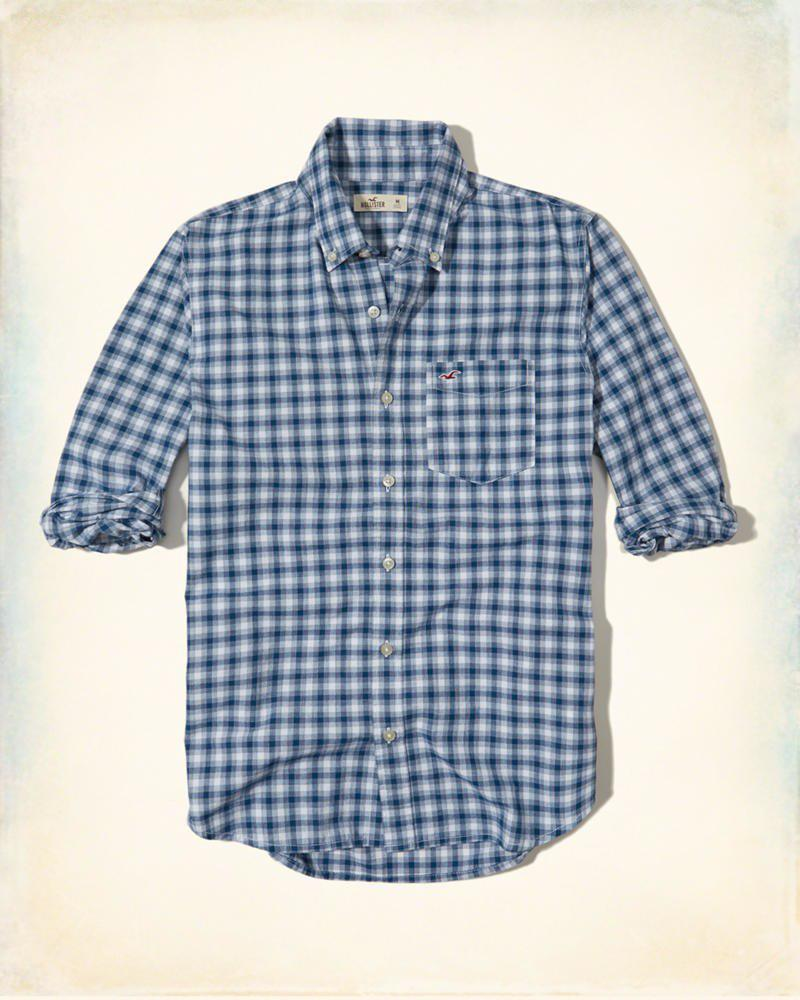teeshirt: (29, 113, 750, 886)
